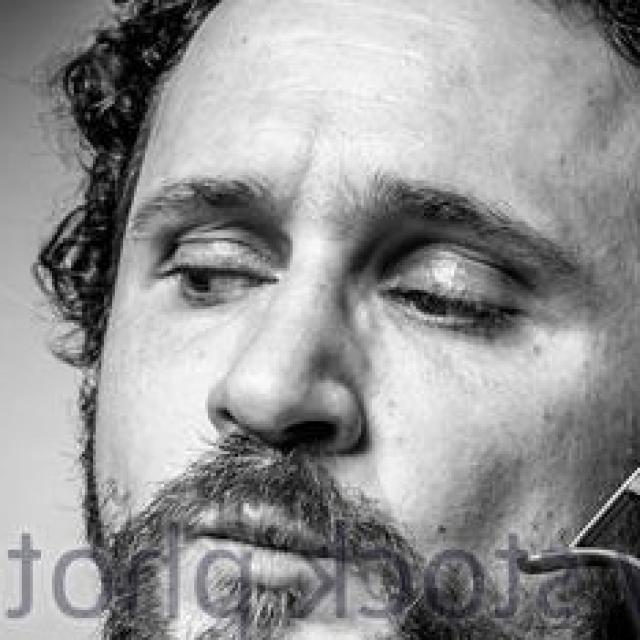Depress: (91, 5, 638, 635)
